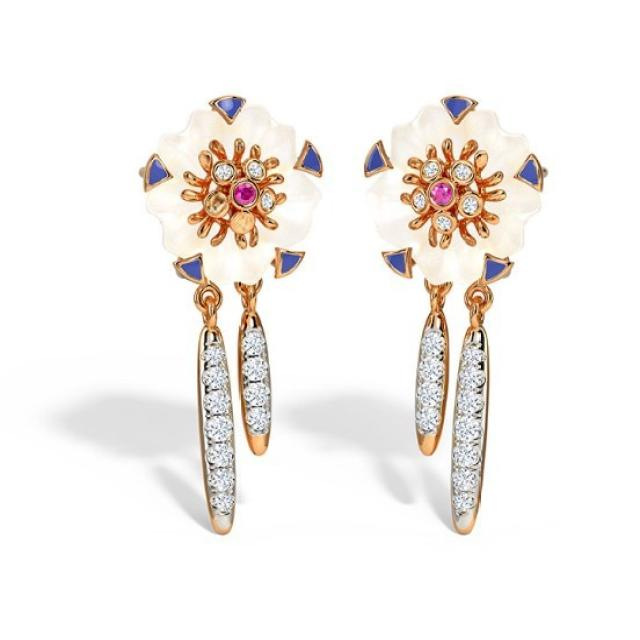missing gem: (206, 192, 228, 216), (228, 213, 253, 230)
